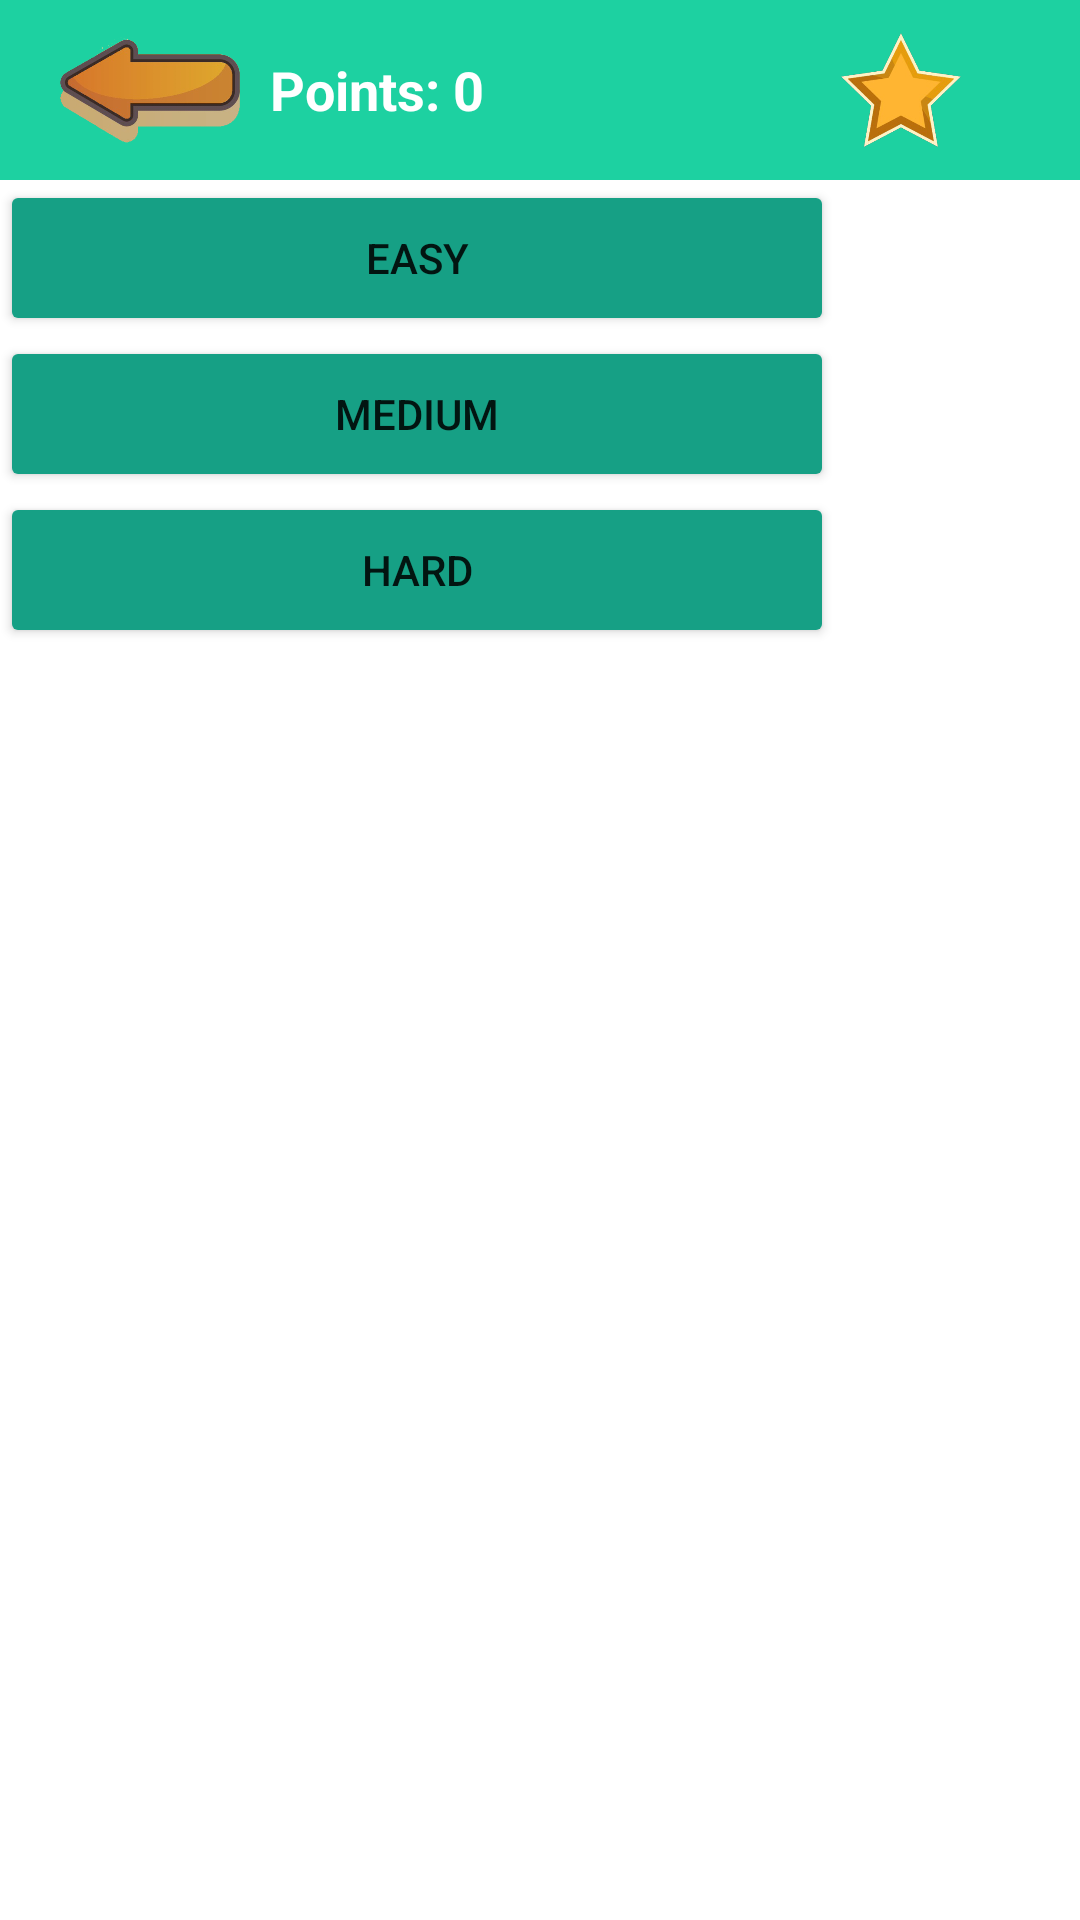

Icon bounding boxes for this 1080*1920 phone screenshot, format (x1=x1, y1=y1, x2=x2, y2=y2):
quiz back: (x1=60, y1=39, x2=240, y2=143)
